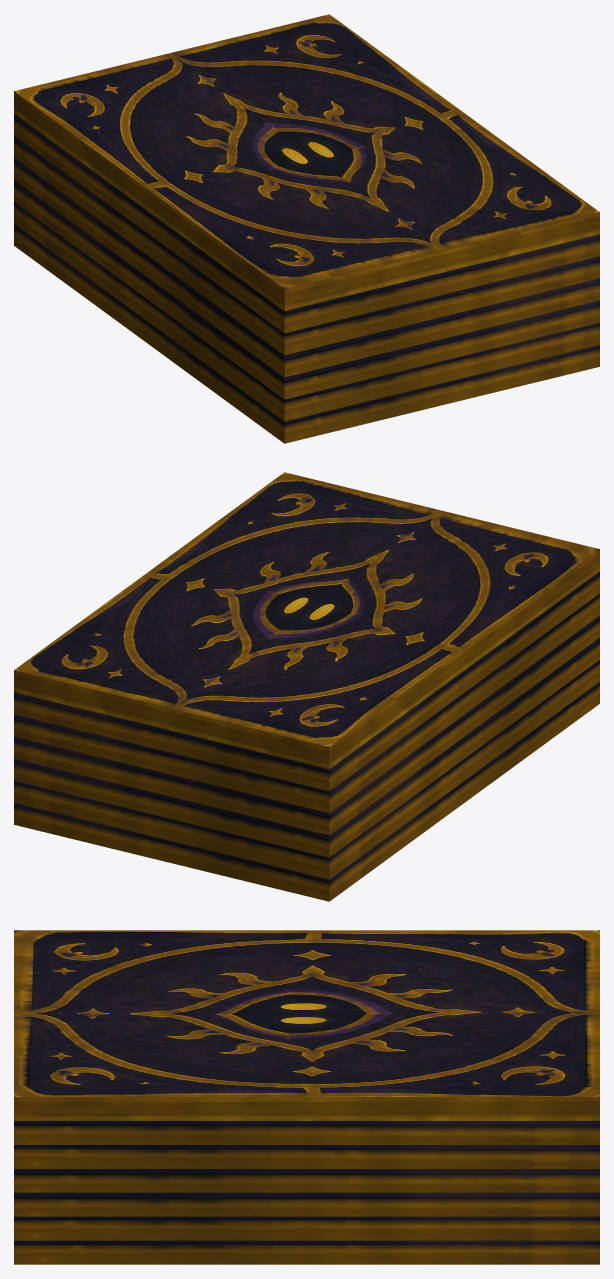
Rendered from Card Deck.fbx.
The picture shows the model from 3 angles, top to bottom: view 1: azimuth 30°, elevation 25°; view 2: azimuth 150°, elevation 25°; view 3: azimuth 270°, elevation 25°; orthographic projection. The views are drawn at different scales.
Parts seen in each view (by area): view 1: Card_Pack; view 2: Card_Pack; view 3: Card_Pack.
Boxes of the visible parts, left/top/right/bottom form: Card_Pack: left=14, top=14, right=599, bottom=443; Card_Pack: left=14, top=472, right=599, bottom=901; Card_Pack: left=14, top=930, right=599, bottom=1264.
Bounding box in the file's own units: 84.64 × 39.62 × 126.
1 material, 1 textured.
